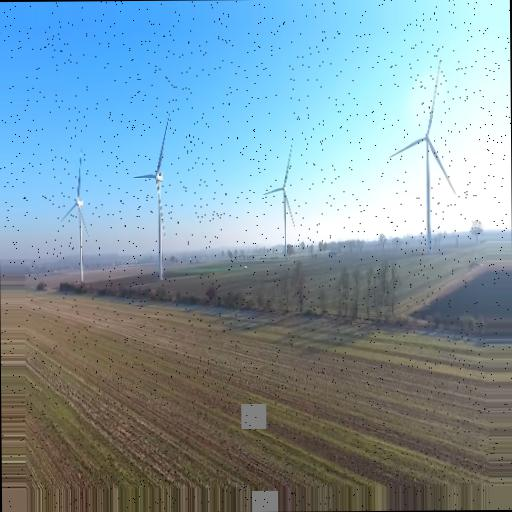wind turbine: (389, 60, 458, 247), (133, 117, 170, 281), (262, 144, 297, 252), (61, 171, 95, 281)
